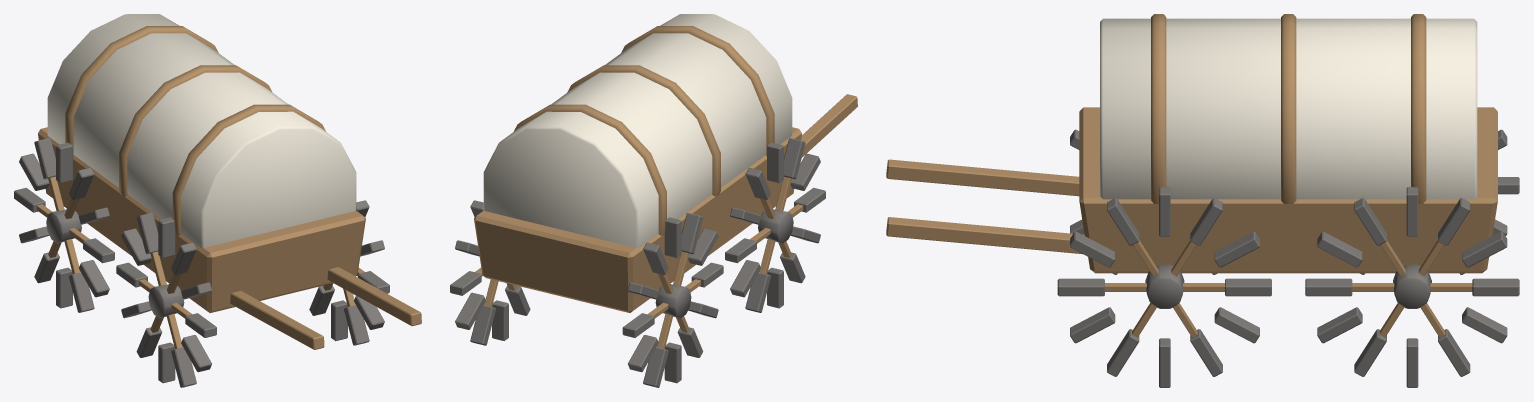
Rendered from Supply_Wagon.glb.
3 views of the same model, side by side, from view 1: azimuth 30°, elevation 25°; view 2: azimuth 150°, elevation 25°; view 3: azimuth 270°, elevation 25° (orthographic). The views are drawn at different scales.
Visible parts, largest first — view 1: TiltCover, WagonBox, TiltHoop_0.00, TiltHoop_-0.42, TiltHoop_0.42, Shaft_0.22, Shaft_-0.22, WBL_Hub, WFL_Hub, WFL_Rim3, WFL_Rim2, WFL_Rim8 (+22 smaller); view 2: TiltCover, WagonBox, TiltHoop_0.00, TiltHoop_0.42, TiltHoop_-0.42, Shaft_-0.22, WFL_Hub, WBL_Hub, WBL_Rim3, WBL_Rim10, WBR_Rim10, WFL_Rim10 (+21 smaller); view 3: TiltCover, WagonBox, Shaft_-0.22, Shaft_0.22, TiltHoop_0.00, TiltHoop_0.42, TiltHoop_-0.42, WFR_Hub, WBR_Hub, WFR_Rim6, WBR_Rim6, WBR_Rim0 (+21 smaller).
Boxes of the visible parts, bbox=[...] form: TiltCover: bbox=[47, 14, 356, 247]; WagonBox: bbox=[38, 127, 365, 312]; TiltHoop_0.00: bbox=[119, 65, 272, 196]; TiltHoop_-0.42: bbox=[172, 104, 325, 235]; TiltHoop_0.42: bbox=[65, 26, 218, 155]; Shaft_0.22: bbox=[327, 267, 421, 326]; Shaft_-0.22: bbox=[230, 291, 324, 349]; WBL_Hub: bbox=[46, 209, 81, 243]; WFL_Hub: bbox=[148, 284, 184, 318]; WFL_Rim3: bbox=[158, 217, 175, 257]; WFL_Rim2: bbox=[136, 212, 158, 254]; WFL_Rim8: bbox=[171, 347, 196, 387]; TiltCover: bbox=[483, 14, 792, 247]; WagonBox: bbox=[474, 127, 801, 312]; TiltHoop_0.00: bbox=[567, 65, 720, 196]; TiltHoop_0.42: bbox=[514, 104, 666, 235]; TiltHoop_-0.42: bbox=[621, 26, 774, 155]; Shaft_-0.22: bbox=[801, 94, 857, 157]; WFL_Hub: bbox=[758, 209, 793, 243]; WBL_Hub: bbox=[655, 284, 691, 318]; WBL_Rim3: bbox=[664, 217, 681, 257]; WBL_Rim10: bbox=[643, 347, 668, 387]; WBR_Rim10: bbox=[470, 305, 495, 345]; WFL_Rim10: bbox=[745, 272, 770, 312]; TiltCover: bbox=[1100, 18, 1477, 199]; WagonBox: bbox=[1079, 107, 1497, 273]; Shaft_-0.22: bbox=[886, 159, 1079, 196]; Shaft_0.22: bbox=[886, 217, 1084, 254]; TiltHoop_0.00: bbox=[1281, 14, 1296, 203]; TiltHoop_0.42: bbox=[1411, 14, 1426, 203]; TiltHoop_-0.42: bbox=[1151, 14, 1166, 203]; WFR_Hub: bbox=[1145, 264, 1184, 308]; WBR_Hub: bbox=[1393, 264, 1431, 308]; WFR_Rim6: bbox=[1057, 278, 1104, 296]; WBR_Rim6: bbox=[1305, 278, 1352, 296]; WBR_Rim0: bbox=[1472, 278, 1519, 296].
Size of the model in its own units: 0.876 by 1.1 by 2.05.
